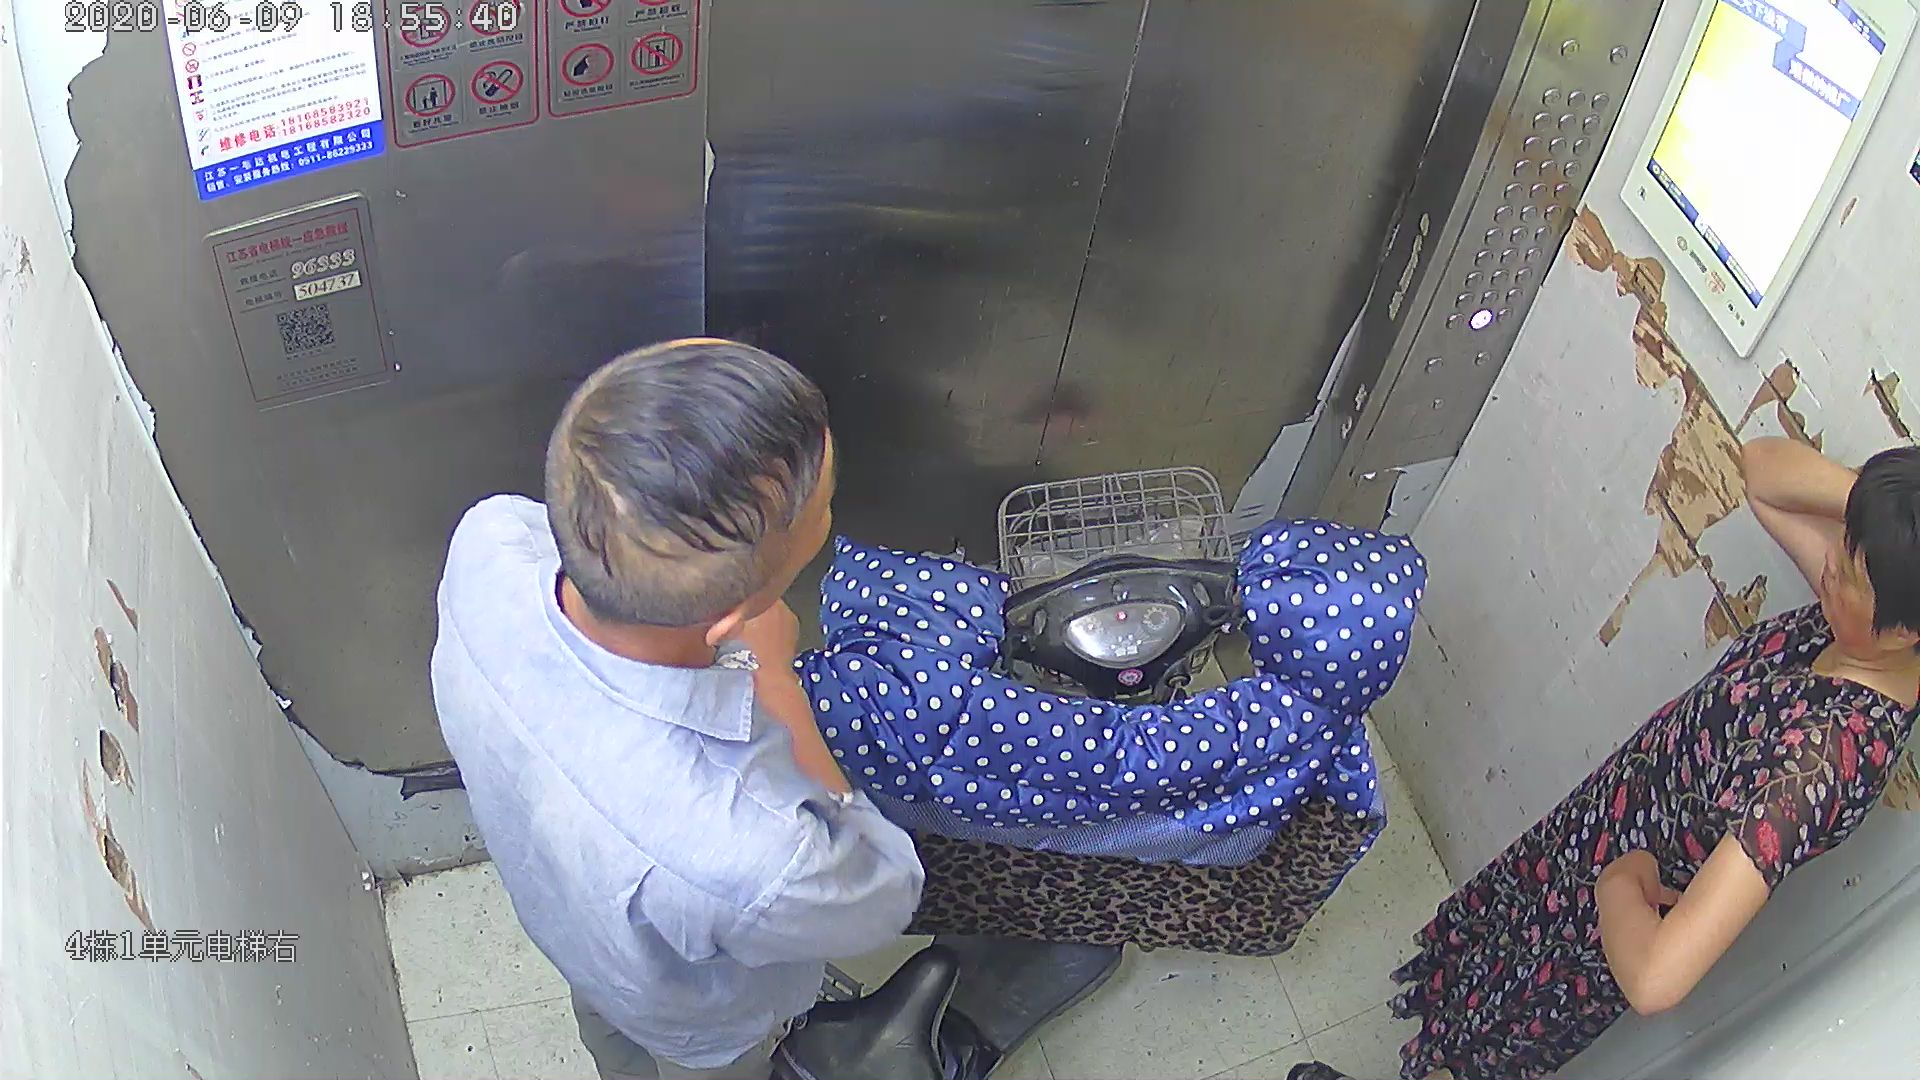Electric-bicycle: (789, 472, 1427, 1076)
